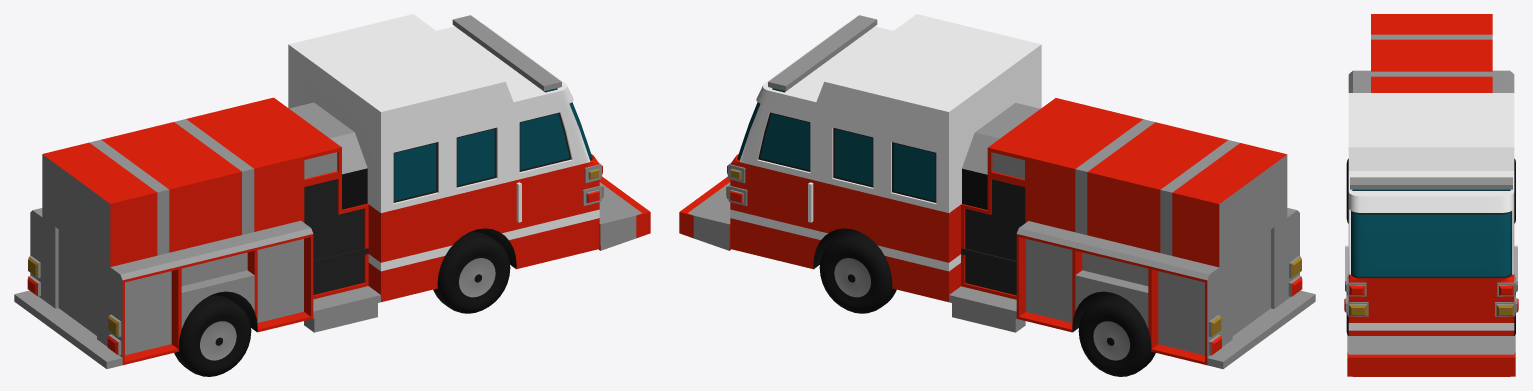
File: Firetruck (1).fbx
3 renders of one model, left to right at view 1: azimuth 30°, elevation 25°; view 2: azimuth 150°, elevation 25°; view 3: azimuth 270°, elevation 25°, orthographic. The views are drawn at different scales.
Parts seen in each view (by area): view 1: Cube.001; view 2: Cube.001; view 3: Cube.001.
Boxes of the visible parts, bbox=[...] form: Cube.001: bbox=[14, 14, 650, 376]; Cube.001: bbox=[679, 14, 1315, 376]; Cube.001: bbox=[1344, 14, 1518, 376].
Size of the model in its own units: 2244 by 893 by 698.
